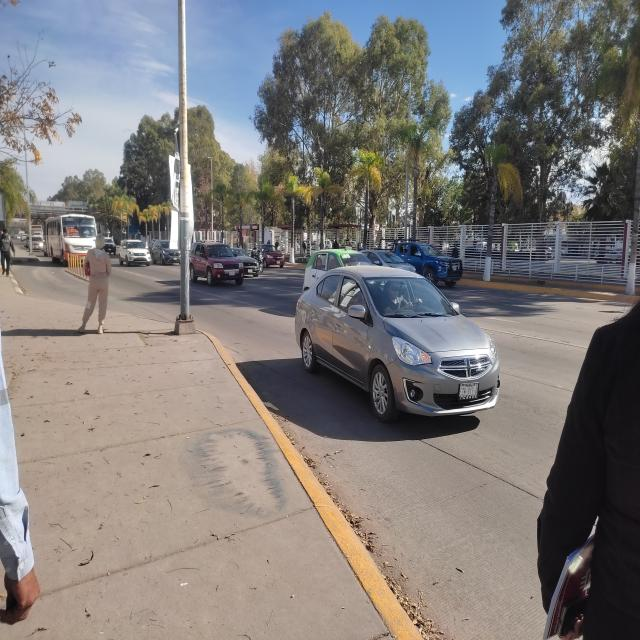3: (537, 213, 640, 640), (72, 229, 127, 331), (0, 219, 25, 284)
Auto: (274, 233, 506, 438), (372, 216, 468, 295), (184, 223, 249, 303), (130, 218, 186, 278), (108, 226, 156, 273), (21, 222, 54, 264)
